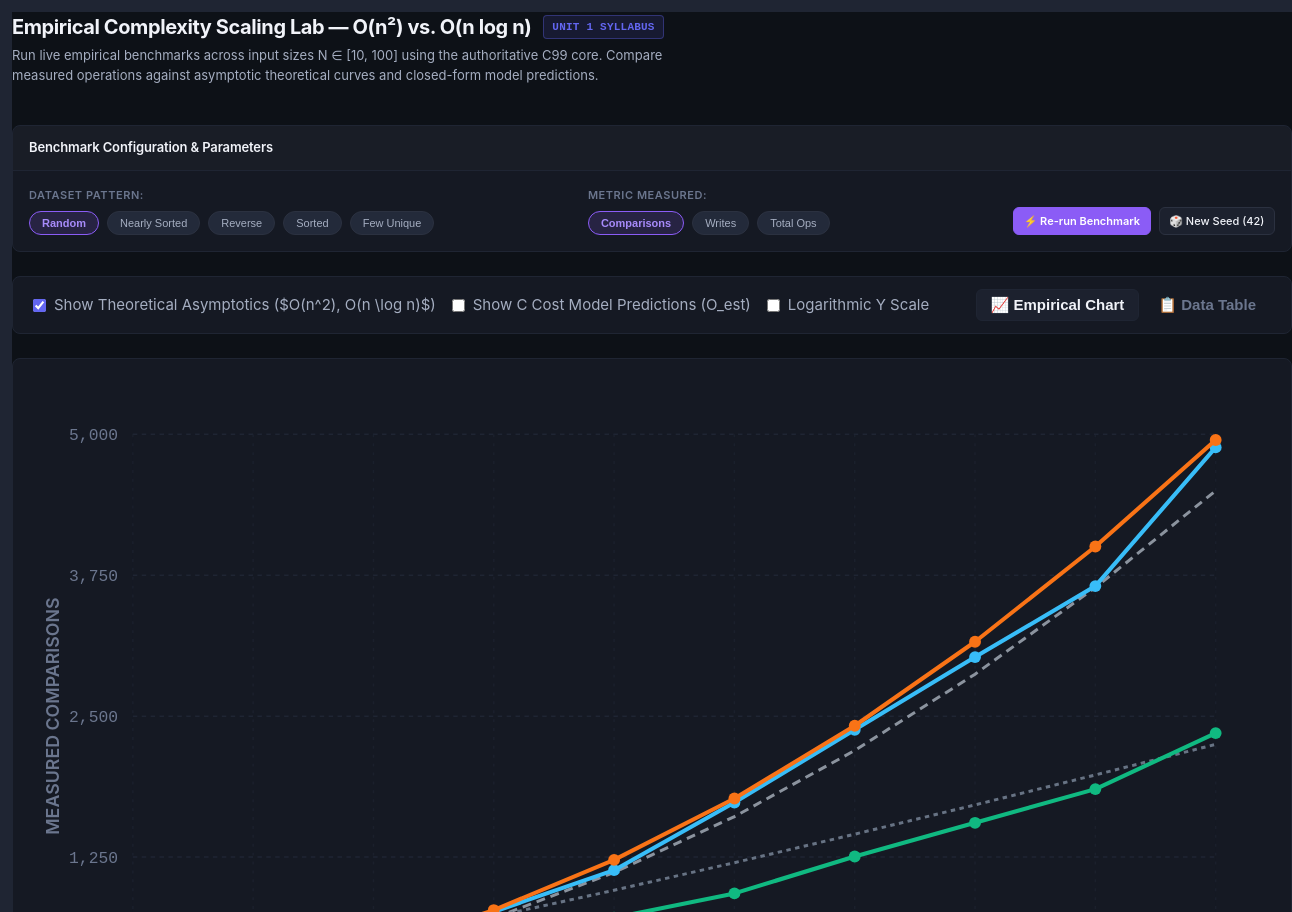
Scaling Lab Suite — Empirical Algorithm Benchmarks & Complexity Curves › ScalingLab Component Interactive UI › switches between Chart View and Accessible Data Table View
Click the tab "📋 Data Table" at (1207, 305), box [1143,289,1271,321]
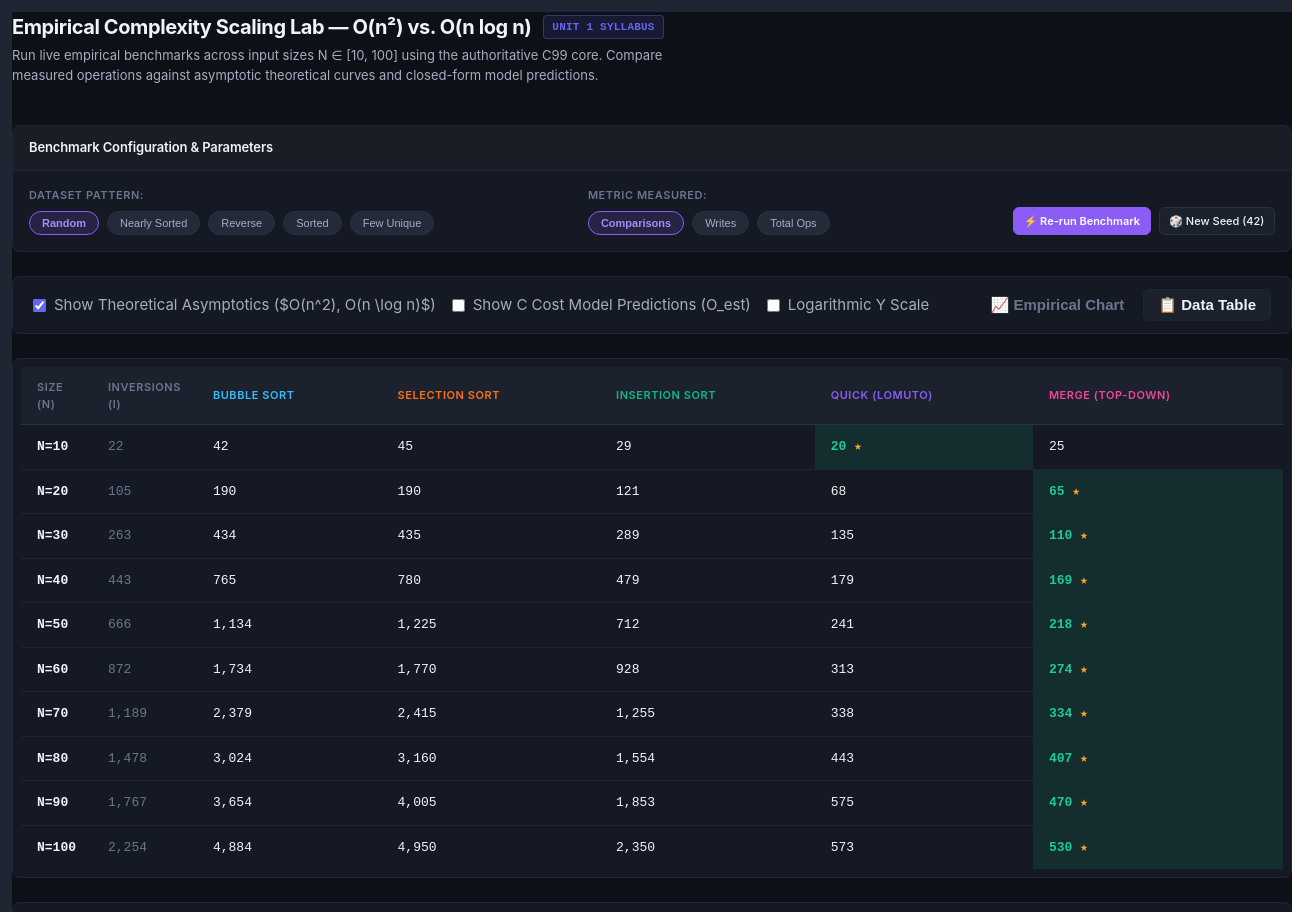
Expected: the table named "empirical measurements data table" is shown, [21,367,1283,869]
Expected: the column heading "Bubble Sort" is shown, [197,367,382,424]
Expected: the column heading "Quick (Lomuto)" is shown, [815,367,1033,424]
